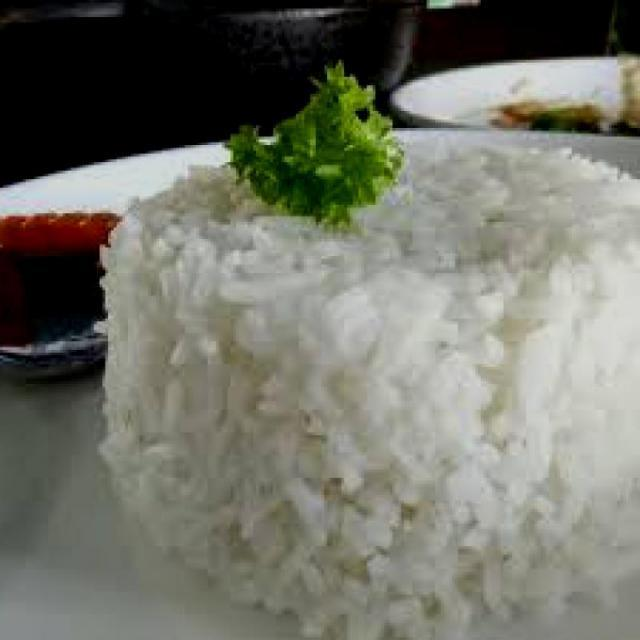rice: (99, 134, 637, 638)
